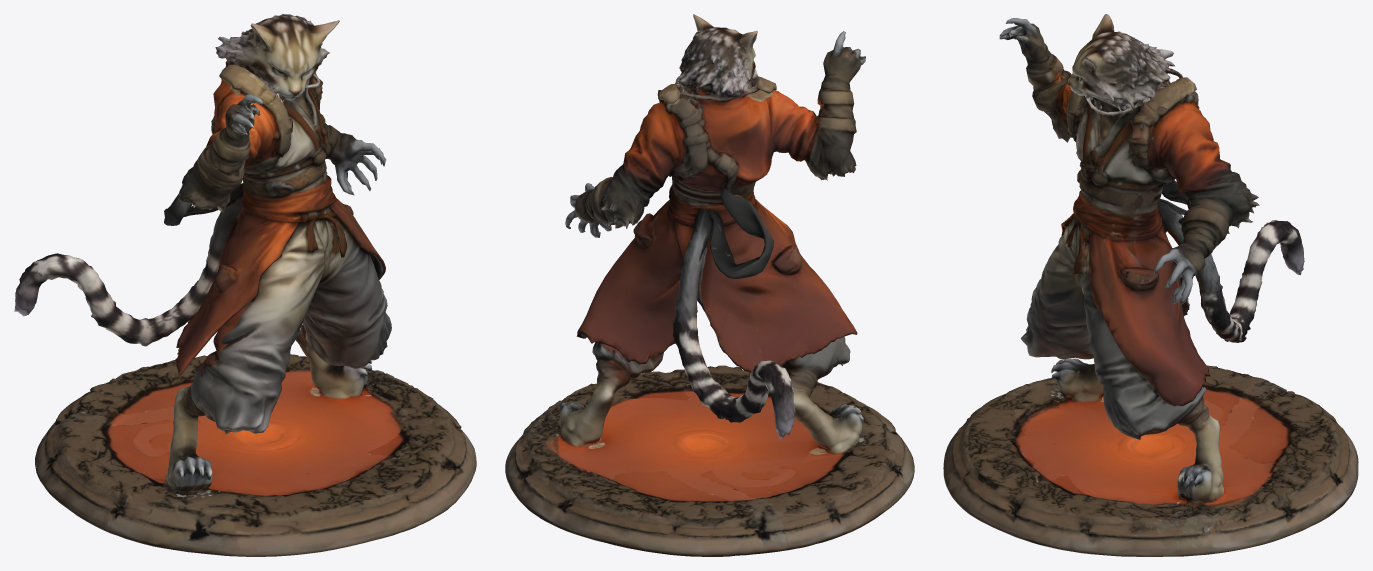
Rendered from Luna (small).glb.
3 renders of one model, left to right at view 1: azimuth 30°, elevation 25°; view 2: azimuth 150°, elevation 25°; view 3: azimuth 270°, elevation 25°, orthographic. The views are drawn at different scales.
Parts seen in each view (by area): view 1: Mesh1.0; view 2: Mesh1.0; view 3: Mesh1.0.
Boxes of the visible parts, x1,y1,x2,y2 form: Mesh1.0: [14, 14, 476, 556]; Mesh1.0: [505, 14, 914, 556]; Mesh1.0: [943, 14, 1358, 556].
Bounding box in the file's own units: 1.7 × 2 × 1.7.
Materials: 1 (1 with a texture image).
